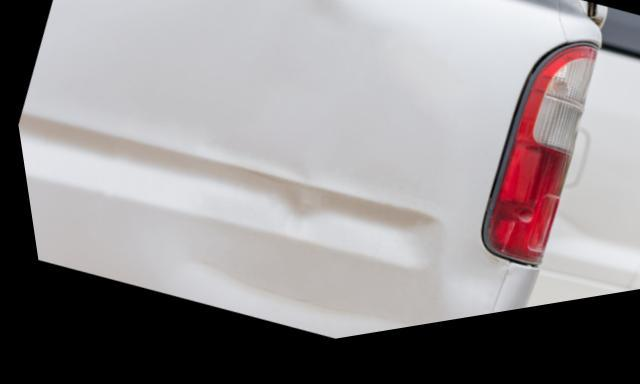dent: (79, 0, 426, 213), (146, 224, 437, 348)
